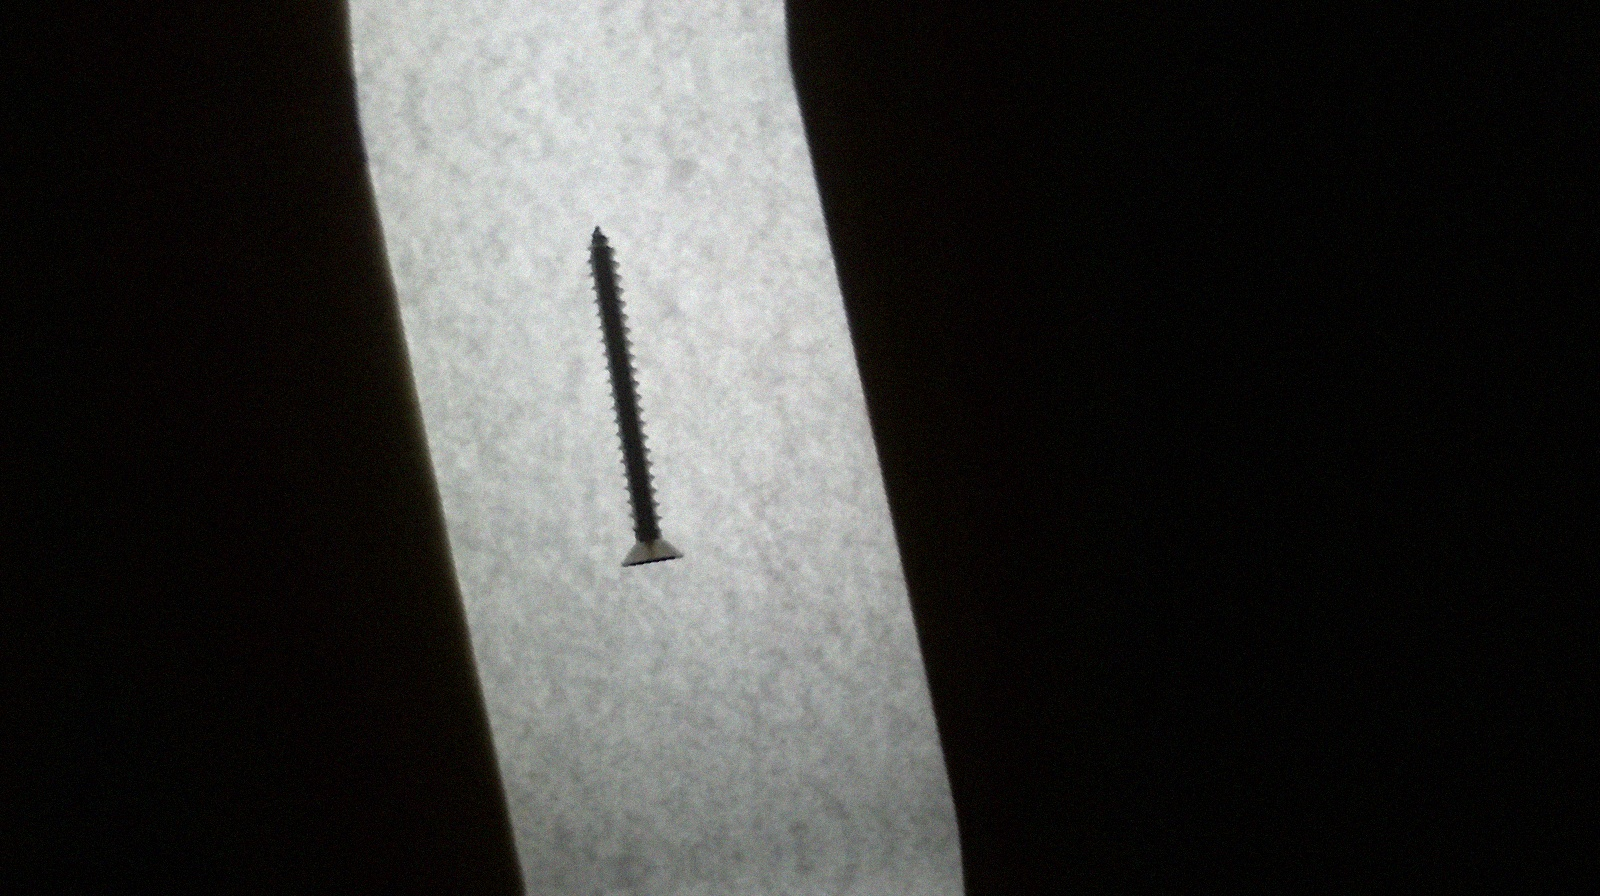S002: (535, 211, 711, 584)
